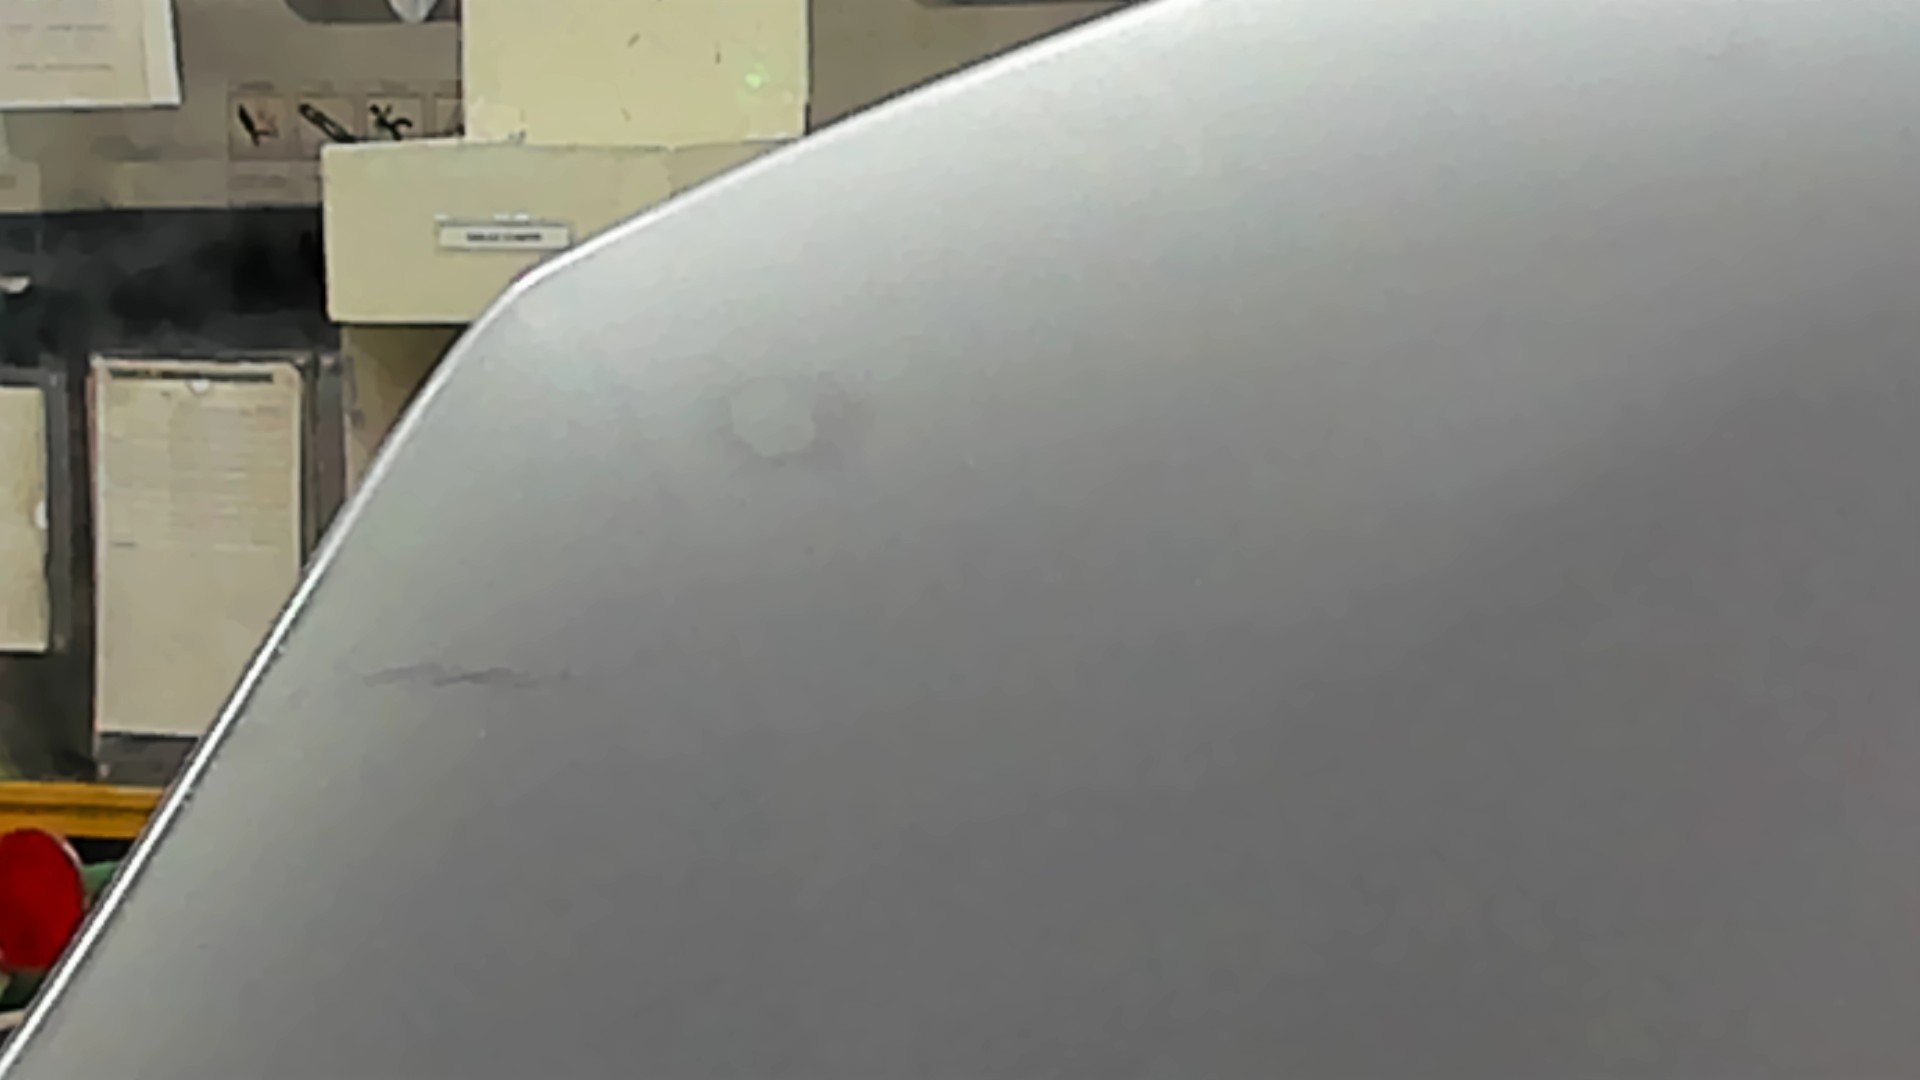capo: (744, 183, 1920, 1080)
